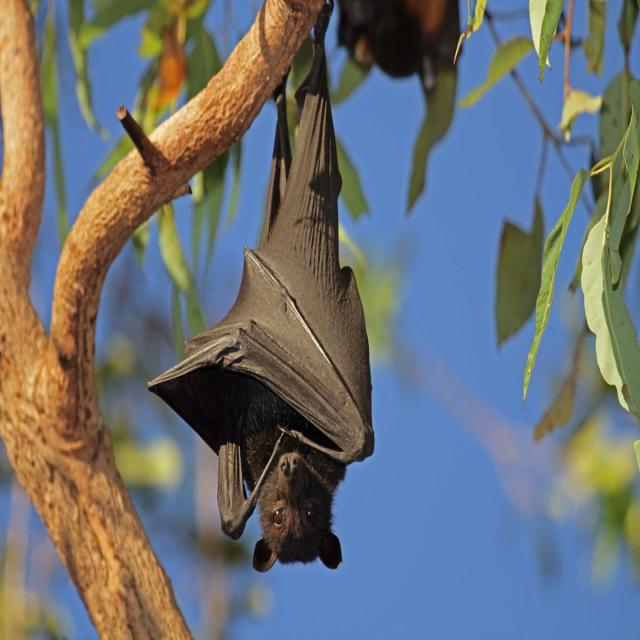Bat: (162, 68, 394, 578)
